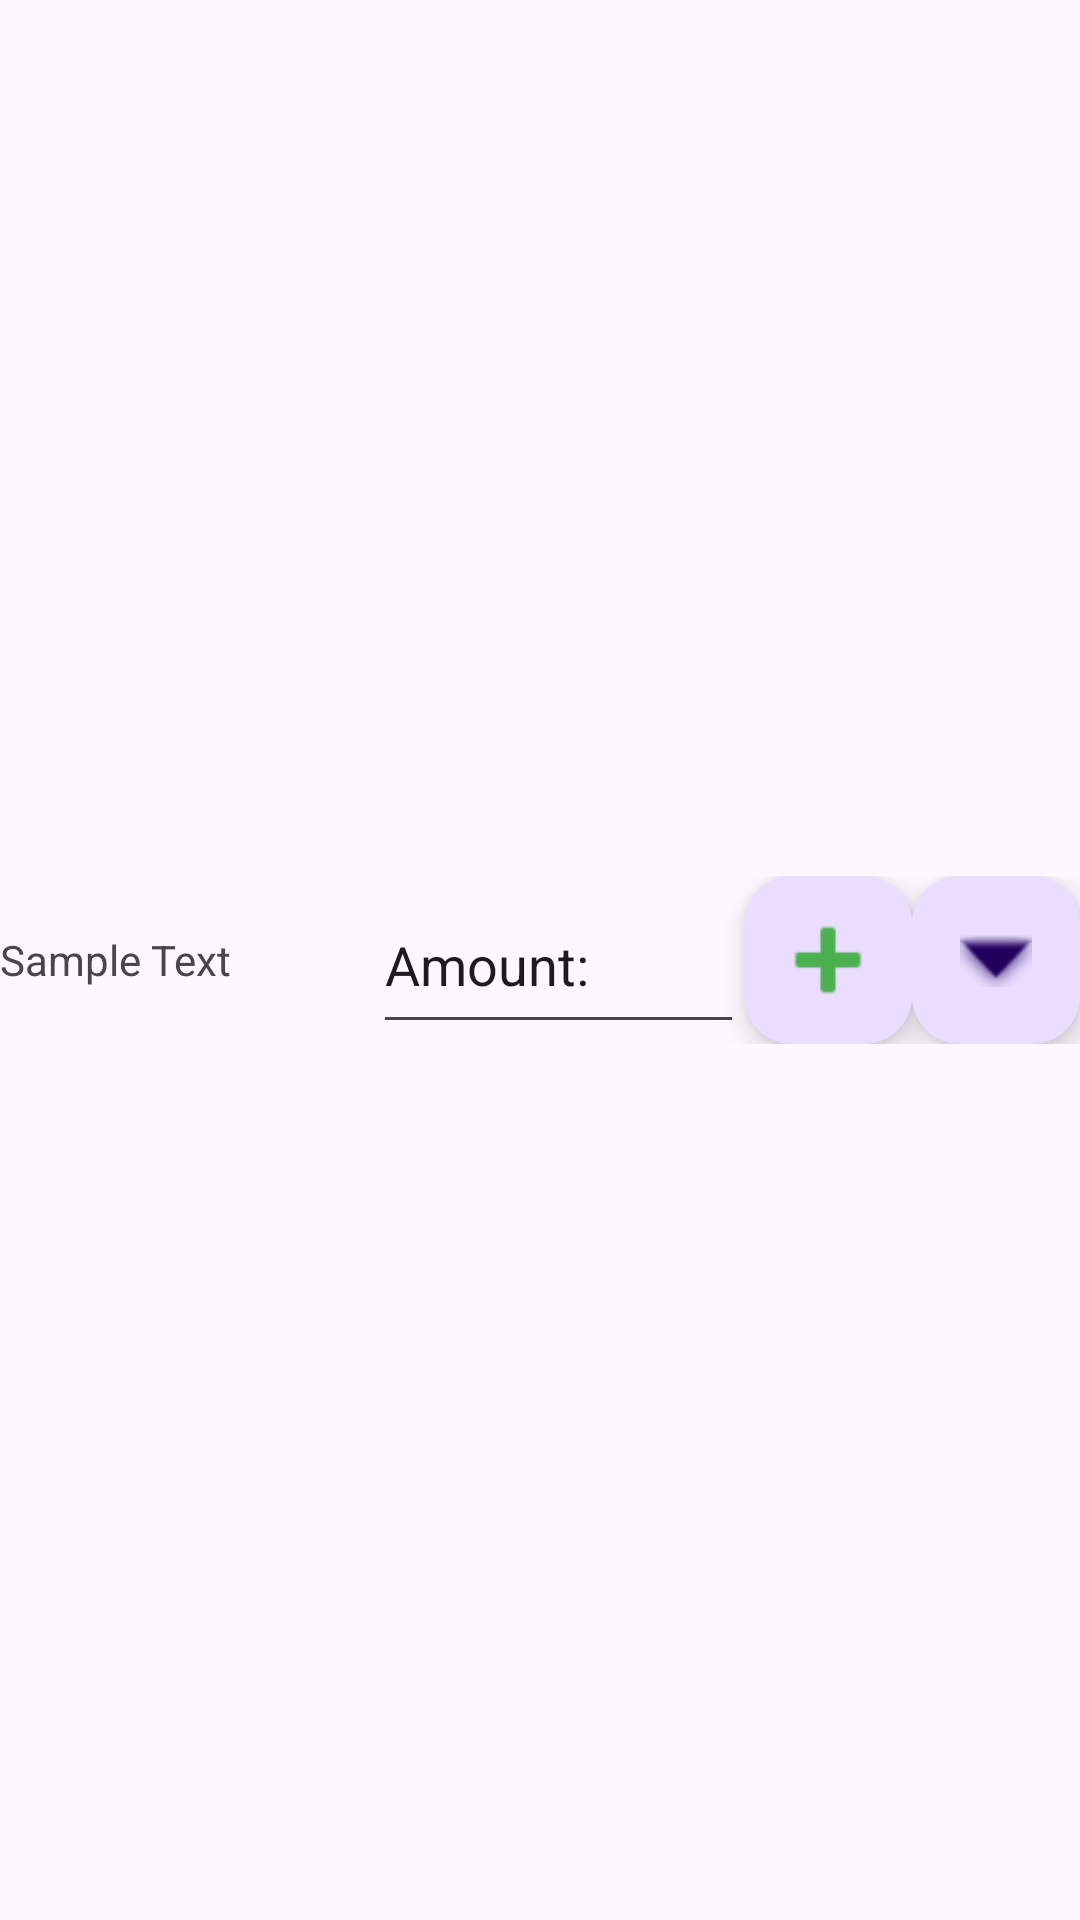

Screen size 1080x1920. Icon name, then its center in pixels as (x=x, y=y):
add: (x=828, y=960)
arrow down float: (x=996, y=960)
